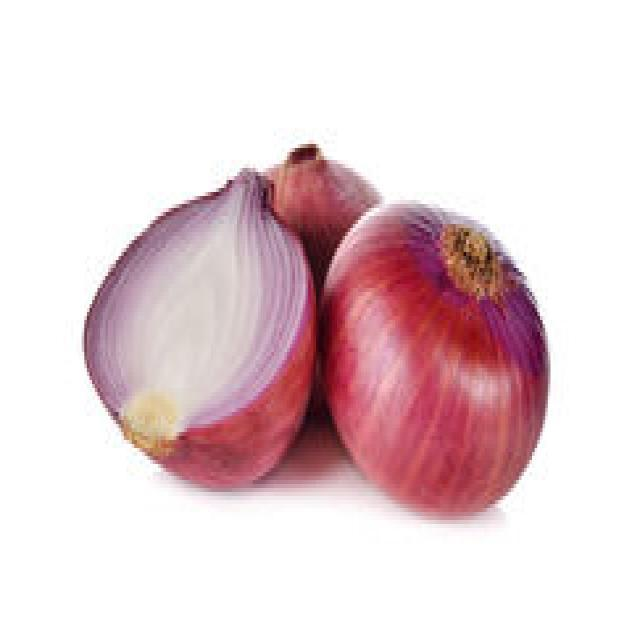onion: (79, 165, 322, 501), (318, 195, 552, 516)
